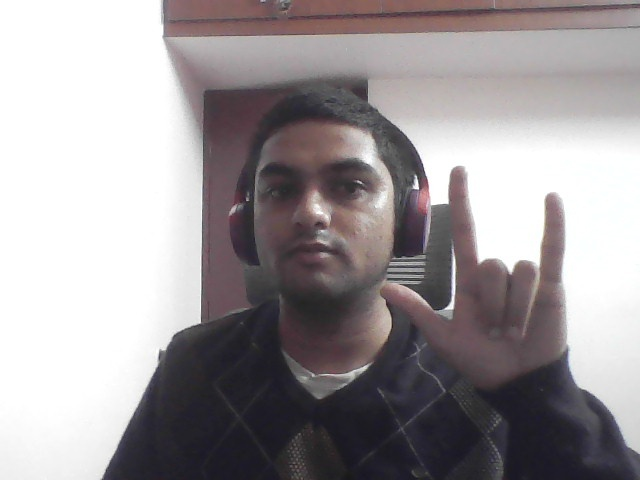I Love You: (379, 153, 577, 403)
